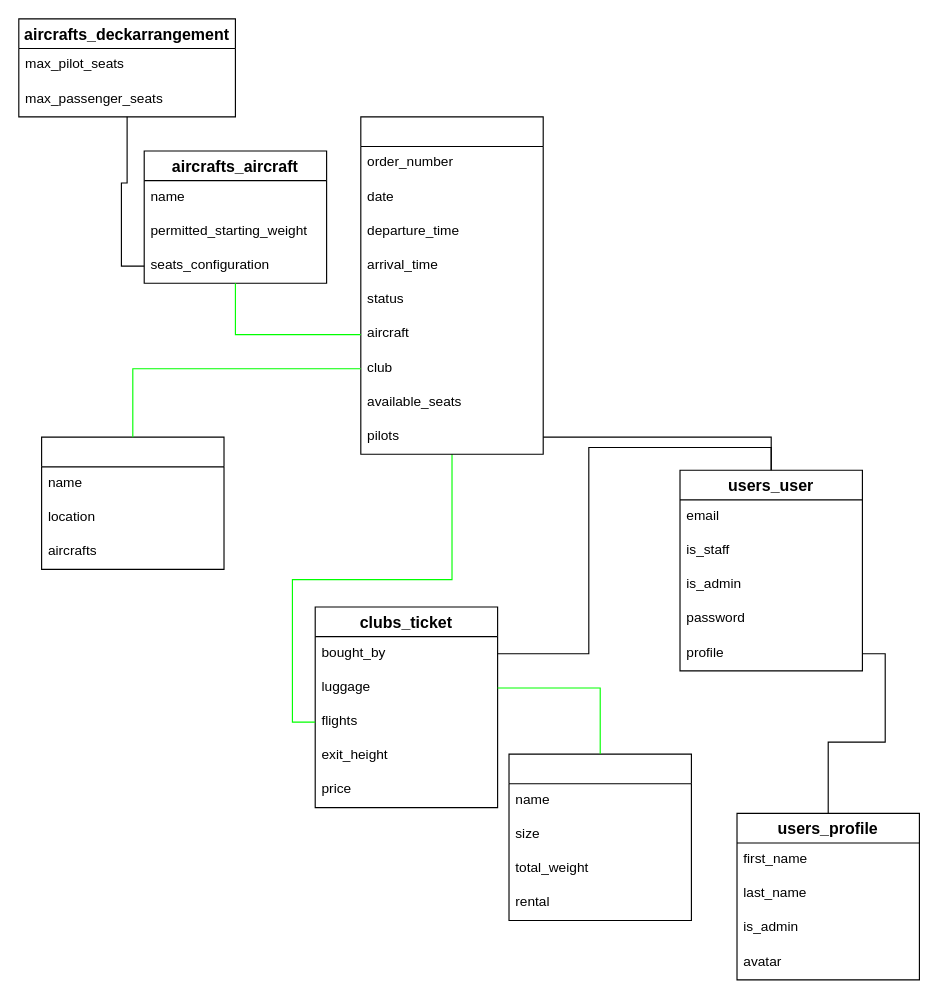
This 938x999 diagram has some shape labels left out. Here are the shapes that lost their labels. From the top down, the box of each, then its label:
(360, 116, 543, 454): manifest_flight
(40, 436, 224, 569): clubs_club
(508, 753, 691, 921): parachutes_parachute
